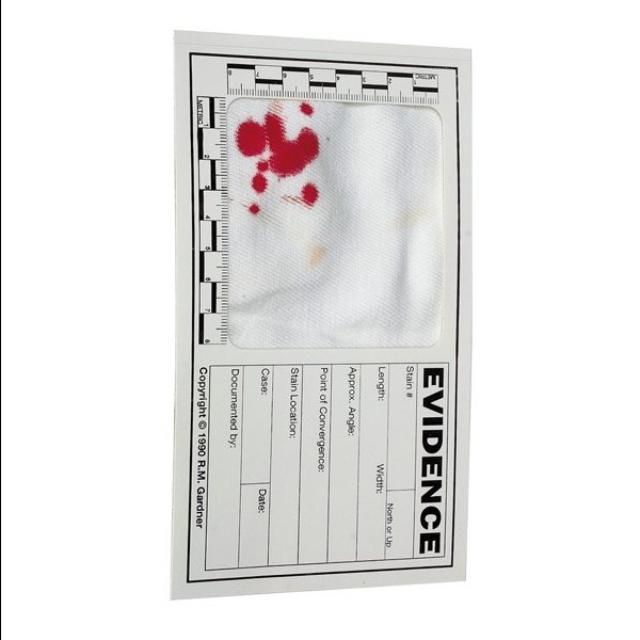blood: (235, 112, 318, 193), (301, 183, 318, 206), (300, 102, 313, 115), (249, 204, 258, 214)
